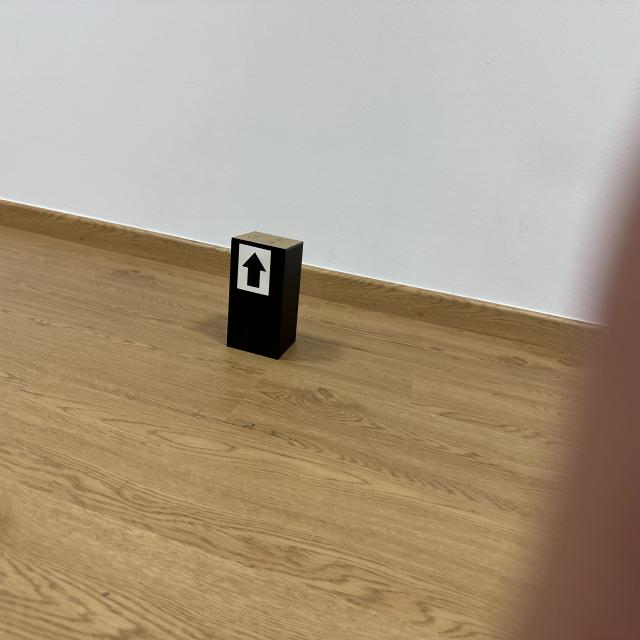UP: (242, 253, 265, 288)
